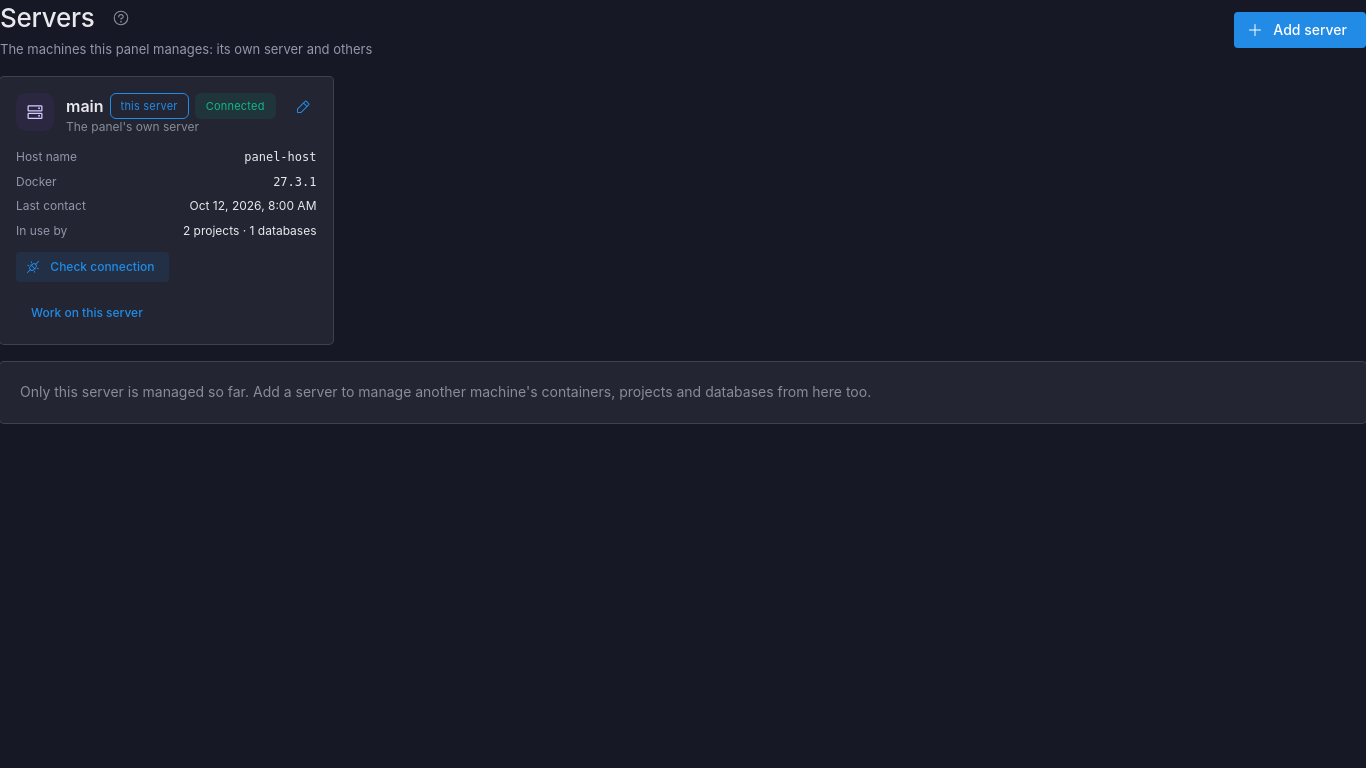
ServersPage › adds a server, shows its install commands once, then connects it
The width and height of the screenshot is (1366, 768).
Click the button "Add server" at (1300, 30), box x1=1234 y1=12 x2=1365 y2=48
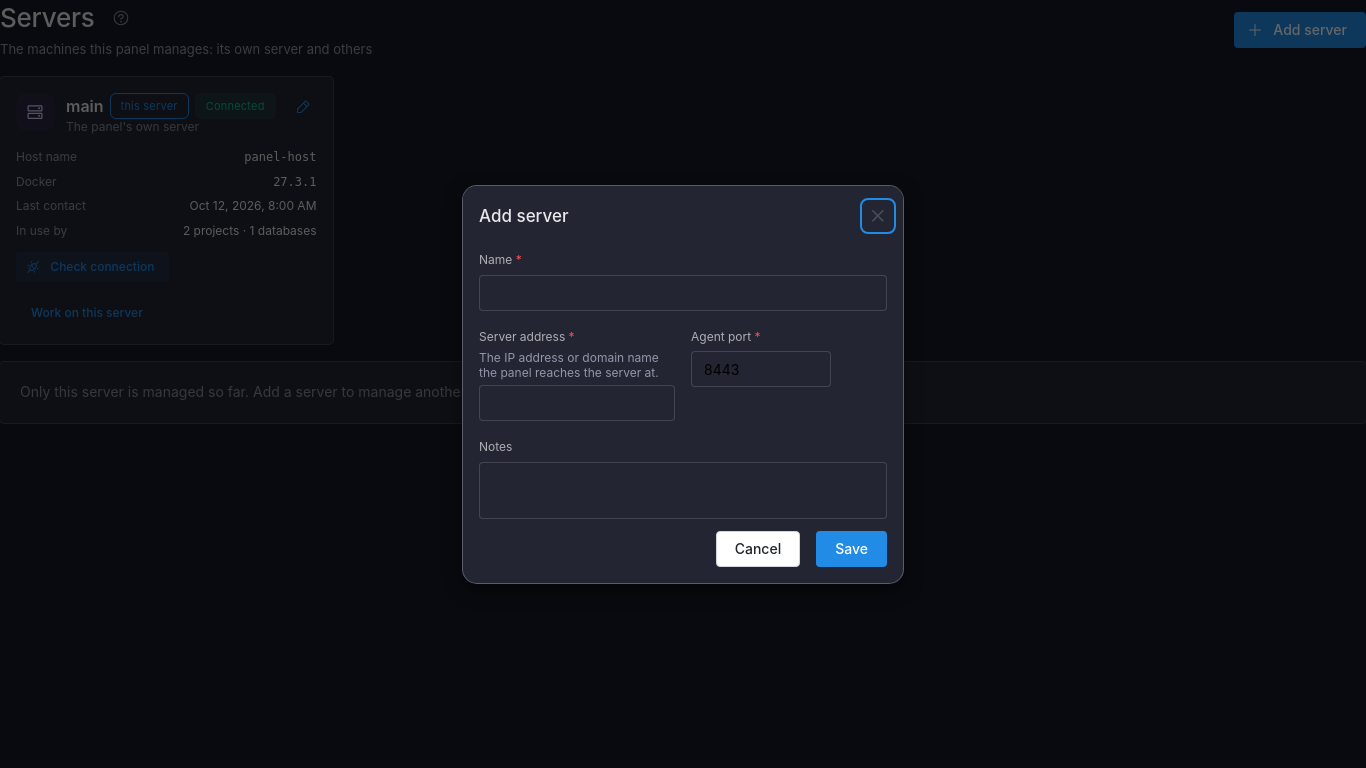
Type "edge" into the field labelled "Name *" at (683, 292), box x1=479 y1=274 x2=887 y2=310
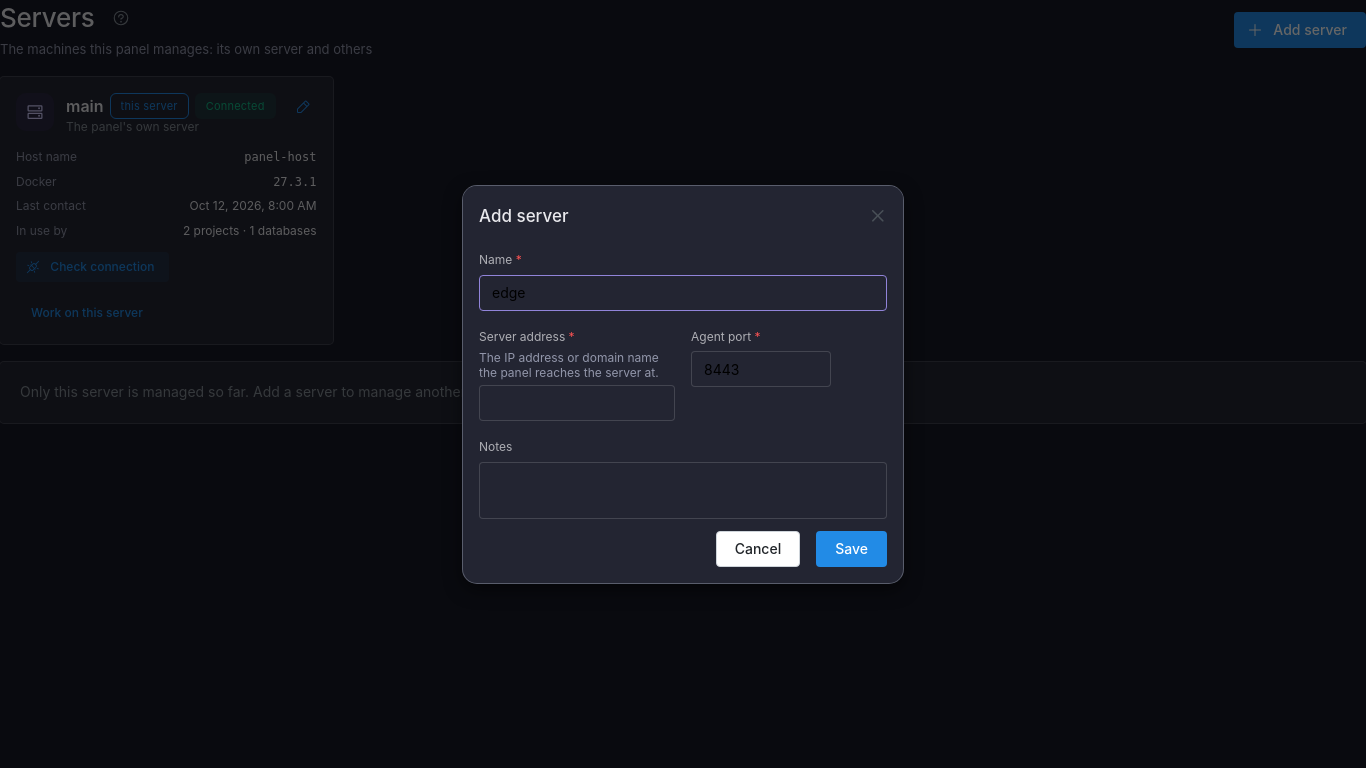
Type "203.0.113.7" into the field labelled "Server address *" at (577, 403), box x1=479 y1=385 x2=675 y2=421
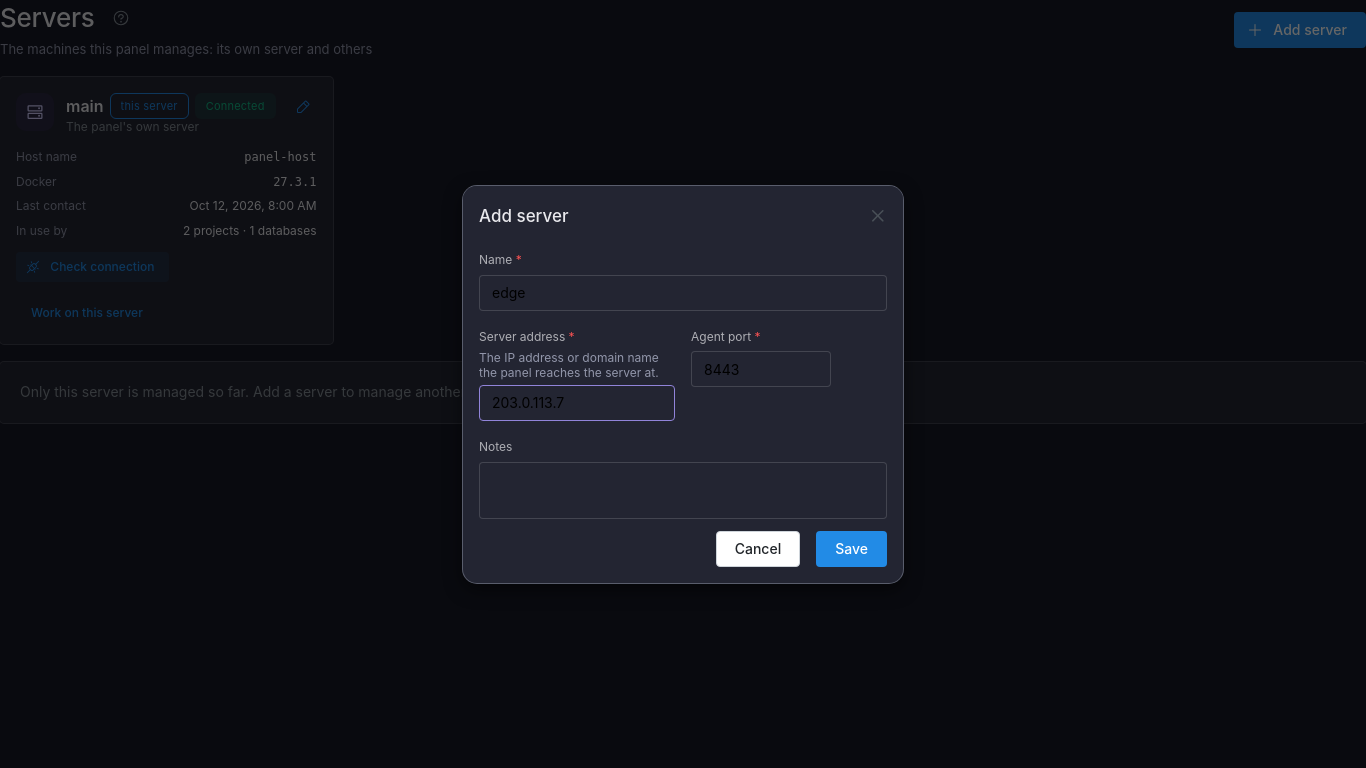
Click the button "Save" at (852, 548), box x1=816 y1=530 x2=887 y2=566
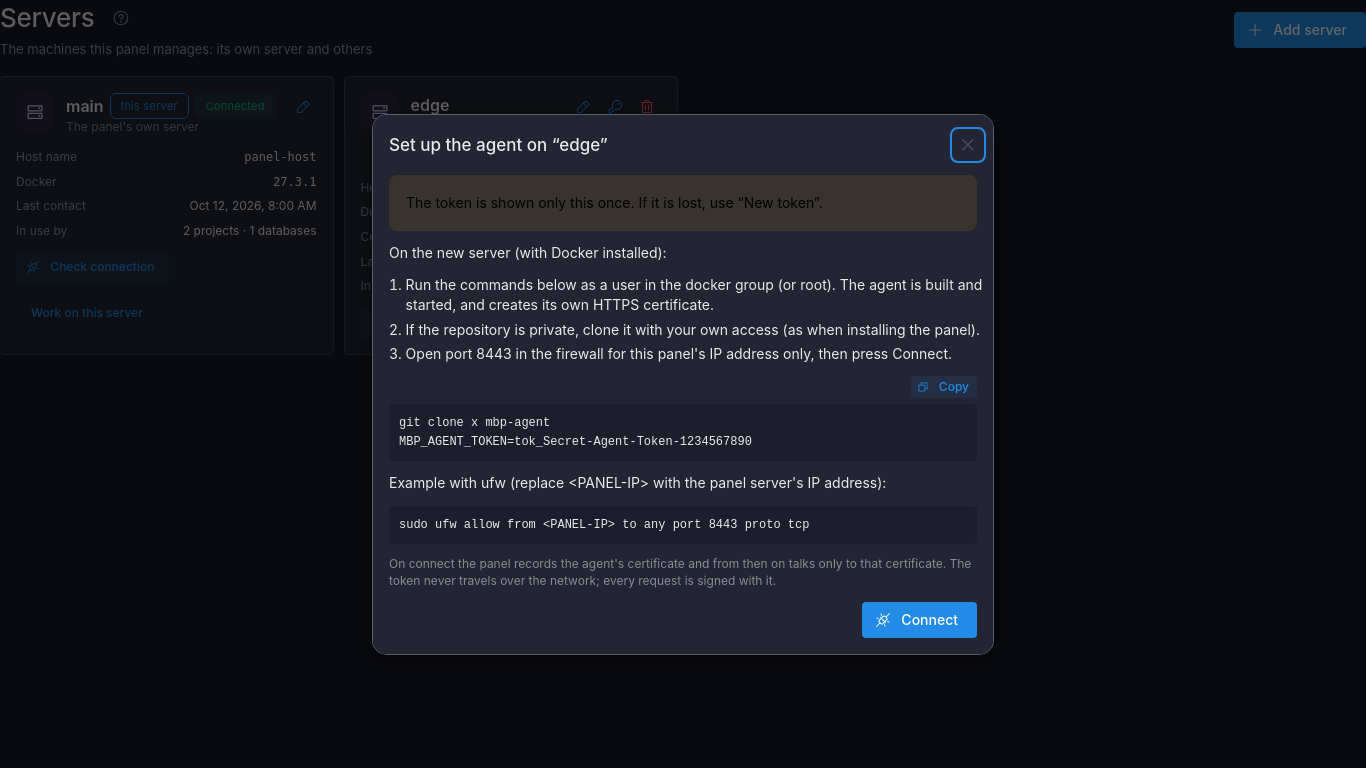
Click the button "Connect" at (920, 619), box x1=862 y1=601 x2=977 y2=637
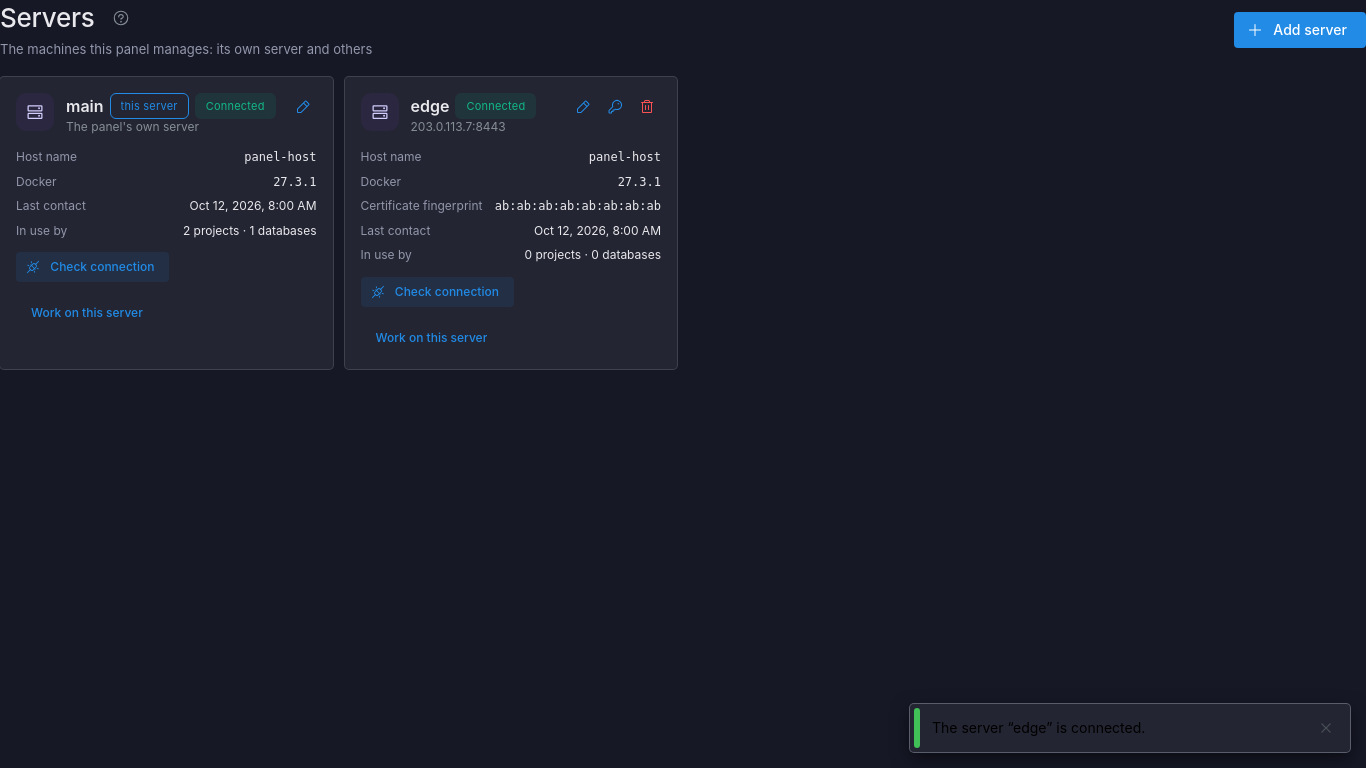
Now the heading "Set up the agent on" is gone
Now the text "tok_Secret-Agent-Token-1234567890" is gone
